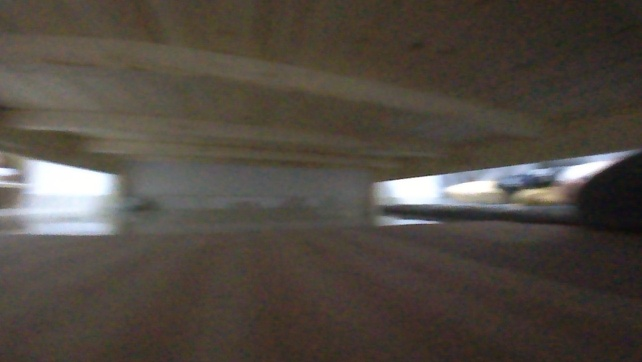blanket: (0, 214, 641, 361)
